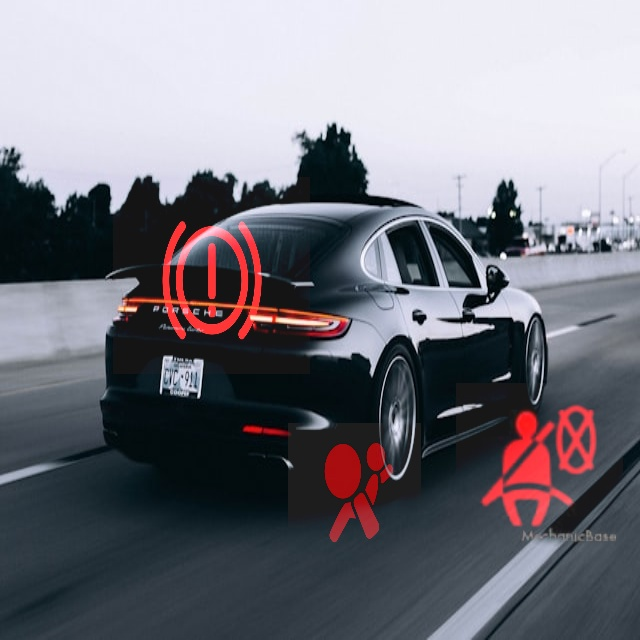symbol: (113, 177, 310, 374), (456, 383, 623, 550), (288, 423, 421, 556)
